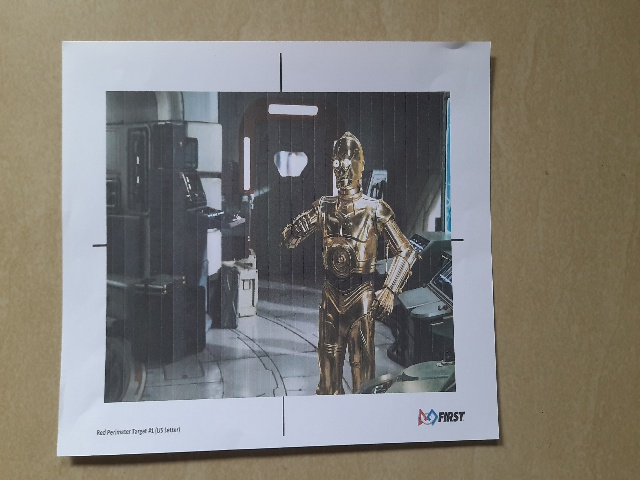rpt1: (76, 63, 474, 437)
